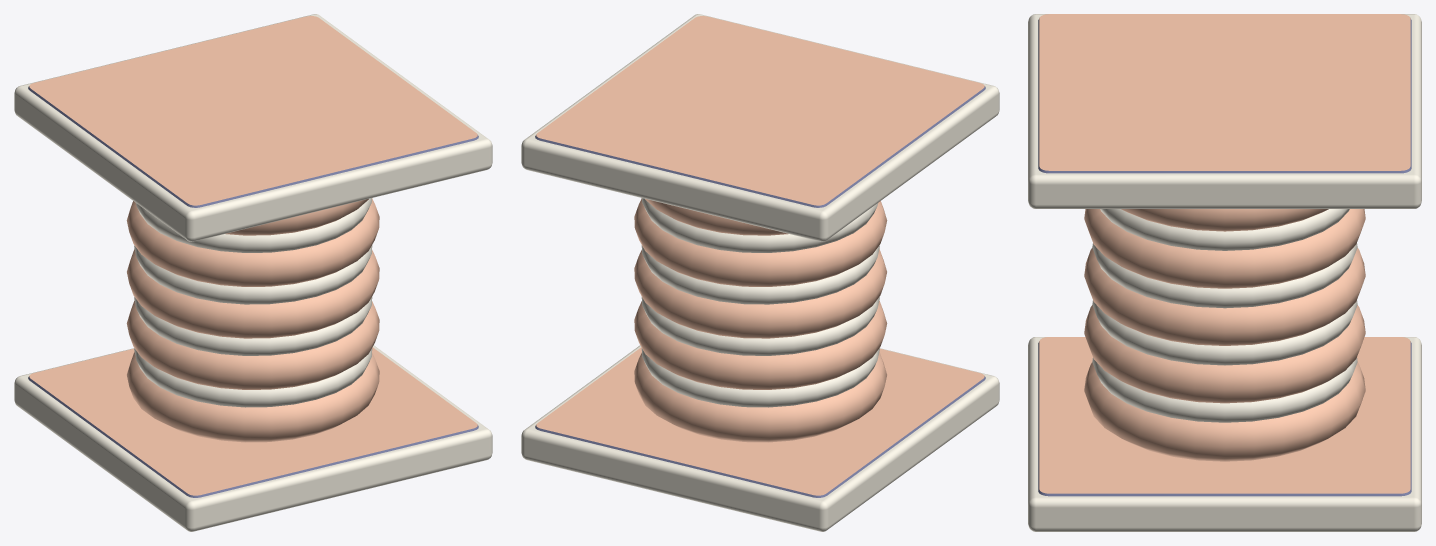
Rendered from R4X_Suspension.fbx.
3 renders of one model, left to right at view 1: azimuth 30°, elevation 25°; view 2: azimuth 150°, elevation 25°; view 3: azimuth 270°, elevation 25°, orthographic. The views are drawn at different scales.
Visible parts, largest first — view 1: R4X_Suspension_Body; view 2: R4X_Suspension_Body; view 3: R4X_Suspension_Body.
Part boxes in pixels (x1,y1,x2,y2): R4X_Suspension_Body: (14,14,492,531); R4X_Suspension_Body: (521,14,999,531); R4X_Suspension_Body: (1028,14,1421,531).
Size of the model in its own units: 0.514 by 0.52 by 0.514.
